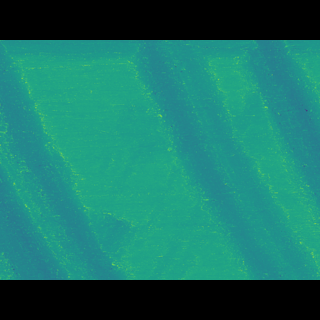Loch: (130, 70, 320, 249), (0, 72, 126, 249)
